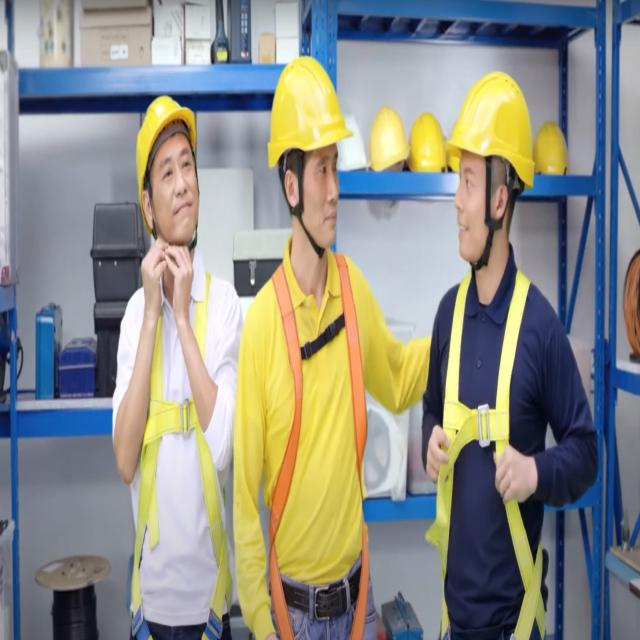illegal_helmet: (263, 49, 360, 269), (441, 63, 540, 274), (134, 91, 202, 262)
